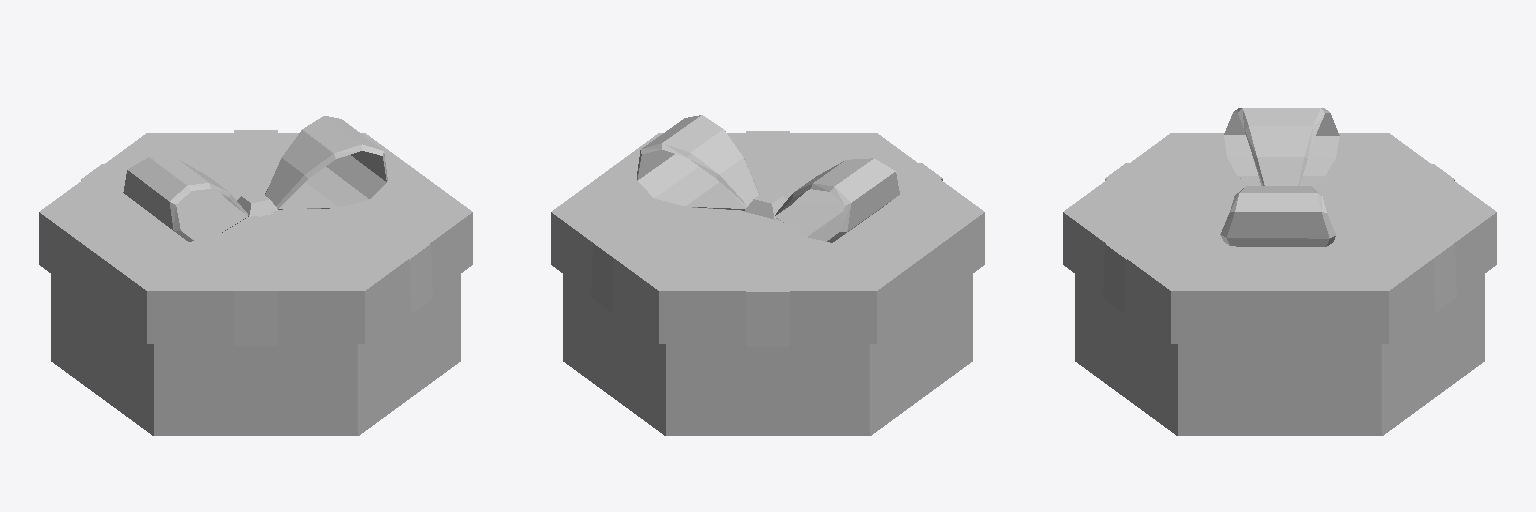
File: Gift_box_03.obj
3 views of the same model, side by side, from view 1: azimuth 30°, elevation 25°; view 2: azimuth 150°, elevation 25°; view 3: azimuth 270°, elevation 25° (orthographic).
Parts seen in each view (by area): view 1: gift_box_03 Gift_box; view 2: gift_box_03 Gift_box; view 3: gift_box_03 Gift_box.
Part boxes in pixels (left/top/right/bottom): gift_box_03 Gift_box: left=39, top=116, right=472, bottom=435; gift_box_03 Gift_box: left=551, top=115, right=984, bottom=435; gift_box_03 Gift_box: left=1063, top=108, right=1496, bottom=435.
Size of the model in its own units: 9.07 by 5.61 by 10.47.